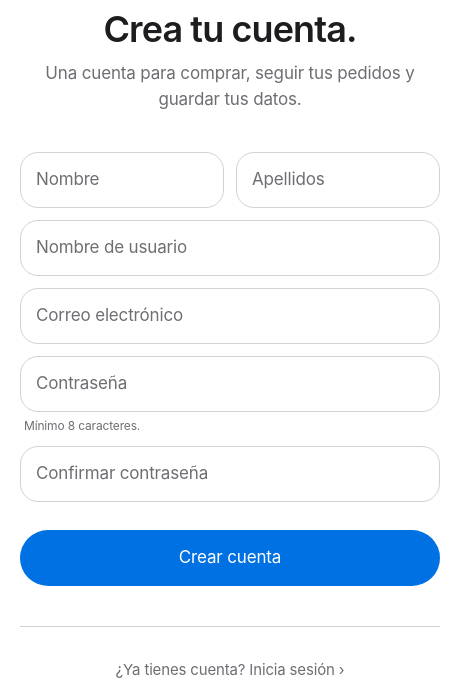
Test: RegisterForm — validaciones › rechaza contraseñas de menos de 8 caracteres
Type "Alan" into the field labelled "Nombre" at (122, 180), box [20,152,224,208]
Type "Vasquez" into the field labelled "Apellidos" at (338, 180), box [236,152,440,208]
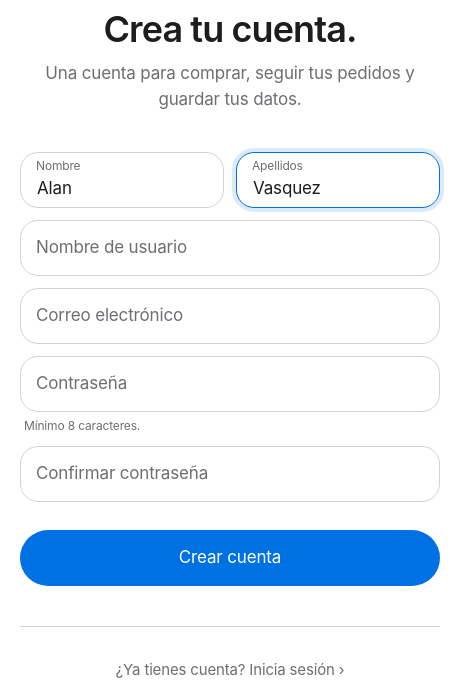
Type "alan" into the field labelled "Nombre de usuario" at (230, 248), box [20,220,440,276]
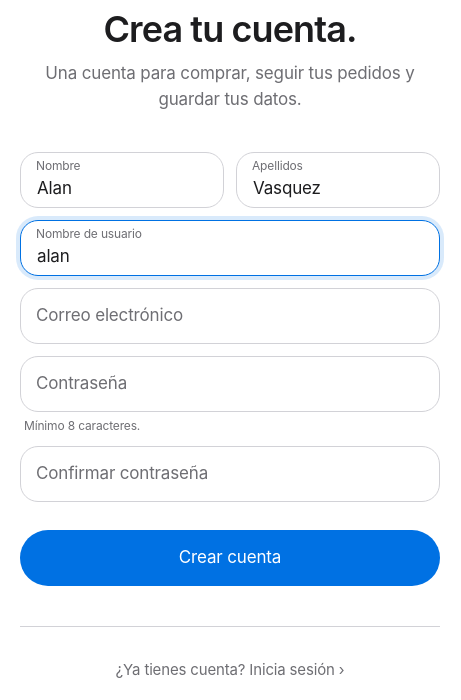
Type "alan@example.com" into the field labelled "Correo electrónico" at (230, 316), box [20,288,440,344]
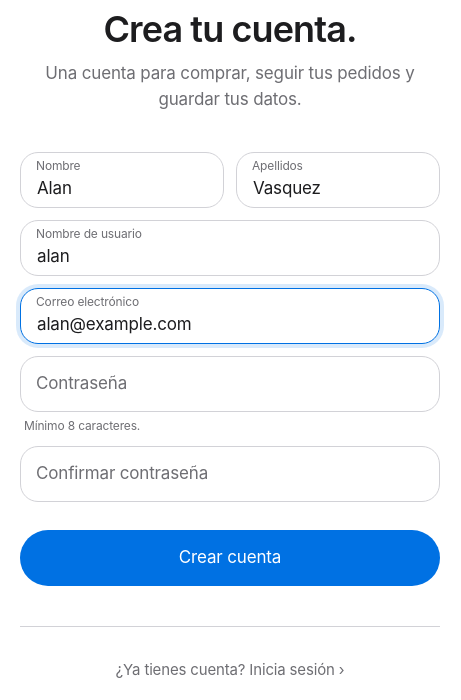
Type "corta7" into the password field labelled "Contraseña" at (230, 384), box [20,356,440,412]
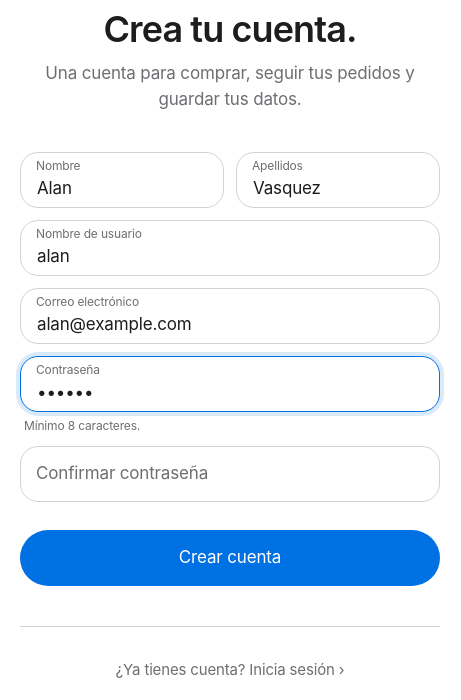
Type "corta7" into the password field labelled "Confirmar contraseña" at (230, 474), box [20,446,440,502]
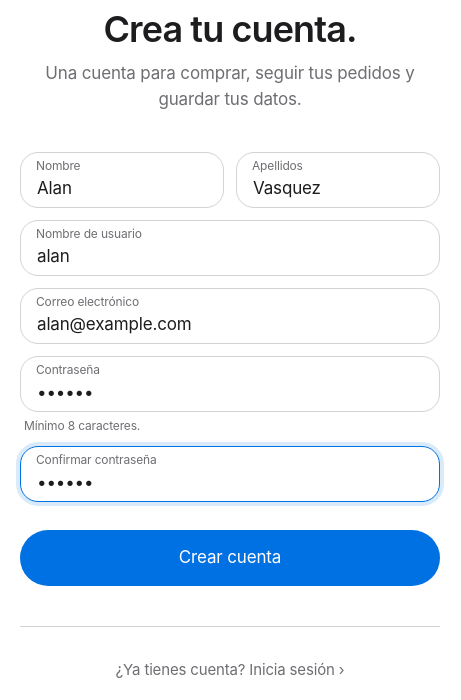
Click the button "Crear cuenta" at (230, 558), box [20,530,440,586]
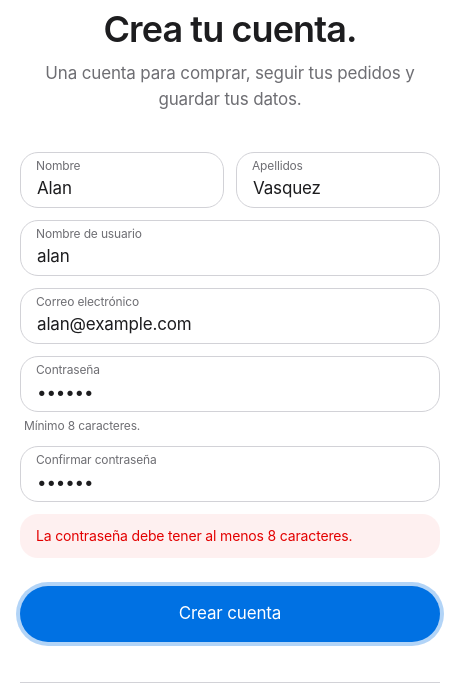
Check: the text "La contraseña debe tener al menos 8 caracteres." is shown, box [20,514,440,558]
